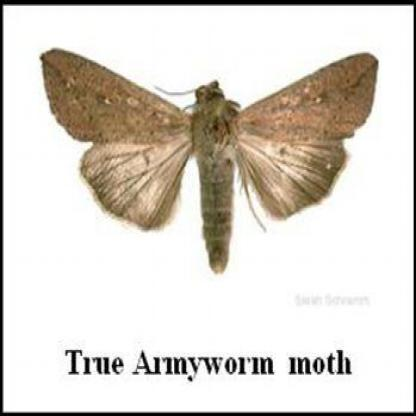armyworm: (36, 36, 378, 287)
